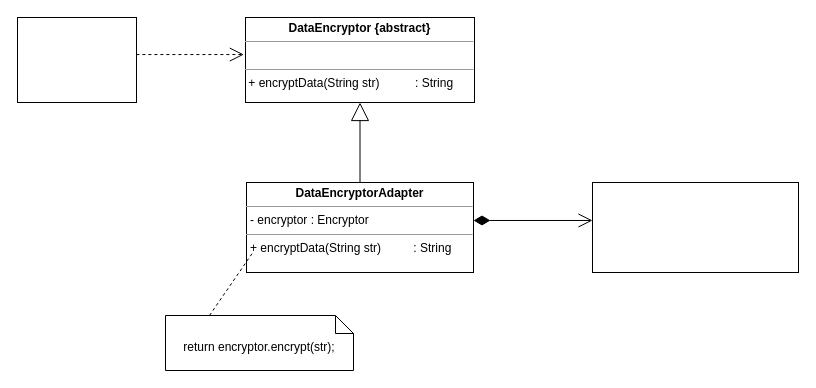
This 816x388 diagram has some shape labels left out. The shapes that lost their labels are listed below. From the top down, each one's box as (x1, y1, x2, y2) in pixels, then its label:
(16, 16, 136, 102): Client
(592, 182, 798, 272): Encryptor + encrypt(String str) : String
